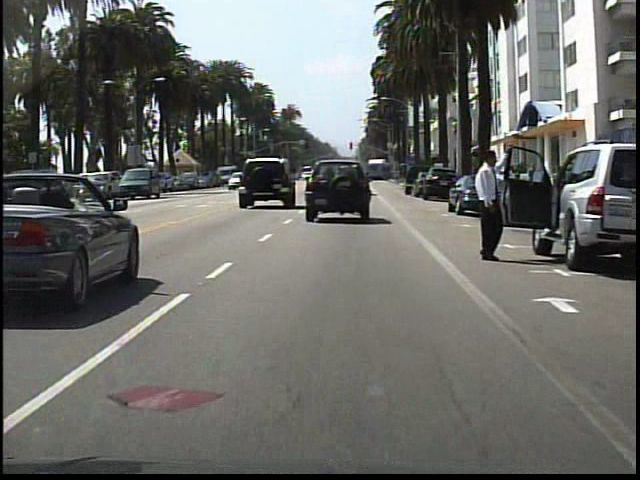person: (462, 142, 514, 266)
